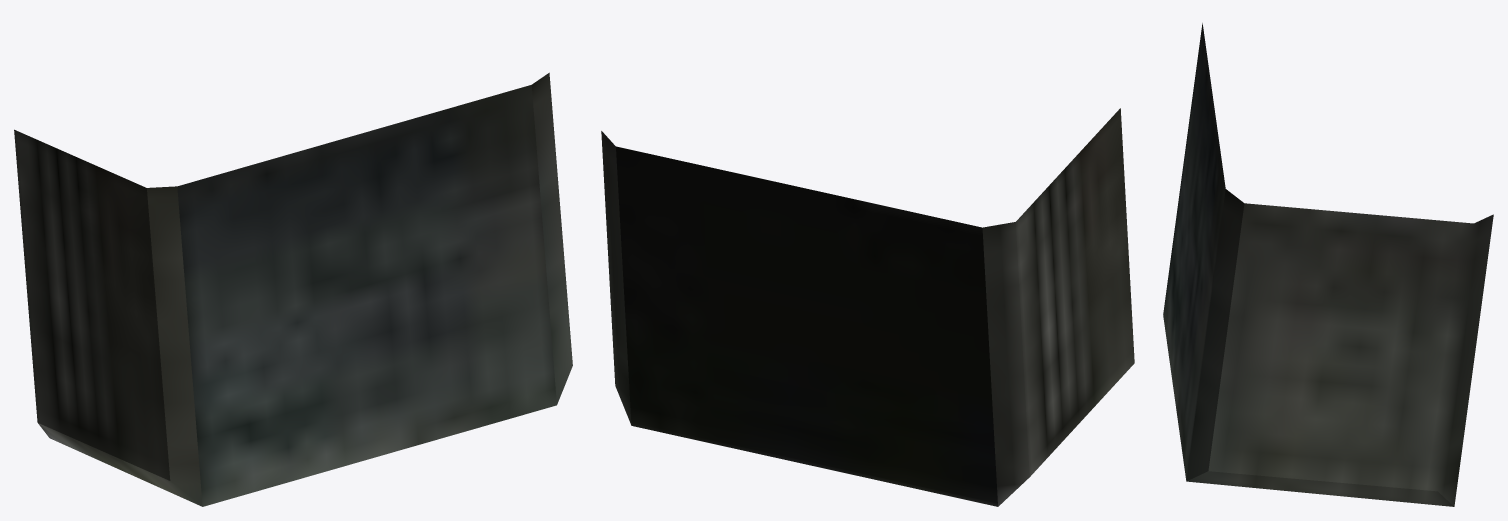
Rendered from prop_flak88_nm_piece2.glb.
3 renders of one model, left to right at view 1: azimuth 30°, elevation 25°; view 2: azimuth 150°, elevation 25°; view 3: azimuth 270°, elevation 25°, orthographic. The views are drawn at different scales.
Bounding box in the file's own units: 11.28 × 8.5 × 7.87.
Materials: 1 (1 with a texture image).
